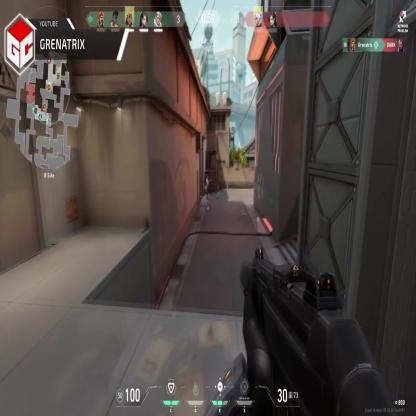enemy: (204, 172, 210, 197)
enemy_head: (206, 173, 209, 179)
